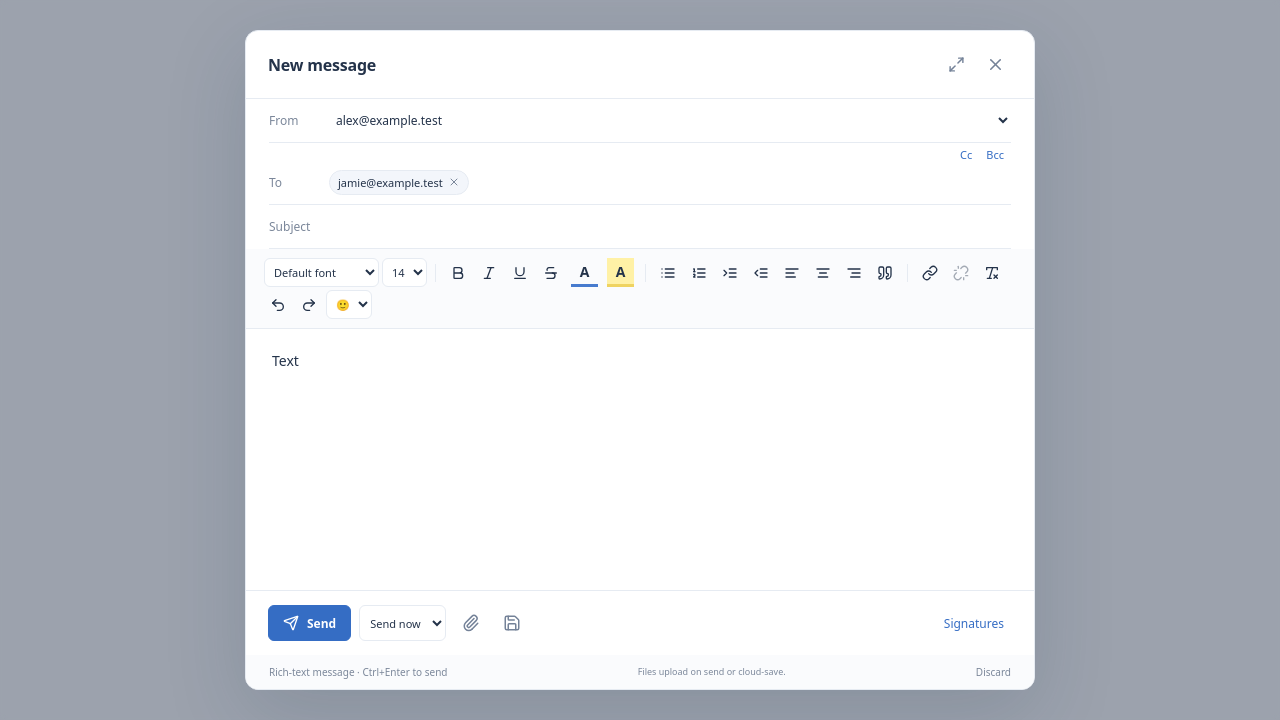
composer regression review › locks the signature insertion control during the five-second countdown
The width and height of the screenshot is (1280, 720).
Click the button "Signatures" at (974, 623), box [936,606,1012,640]
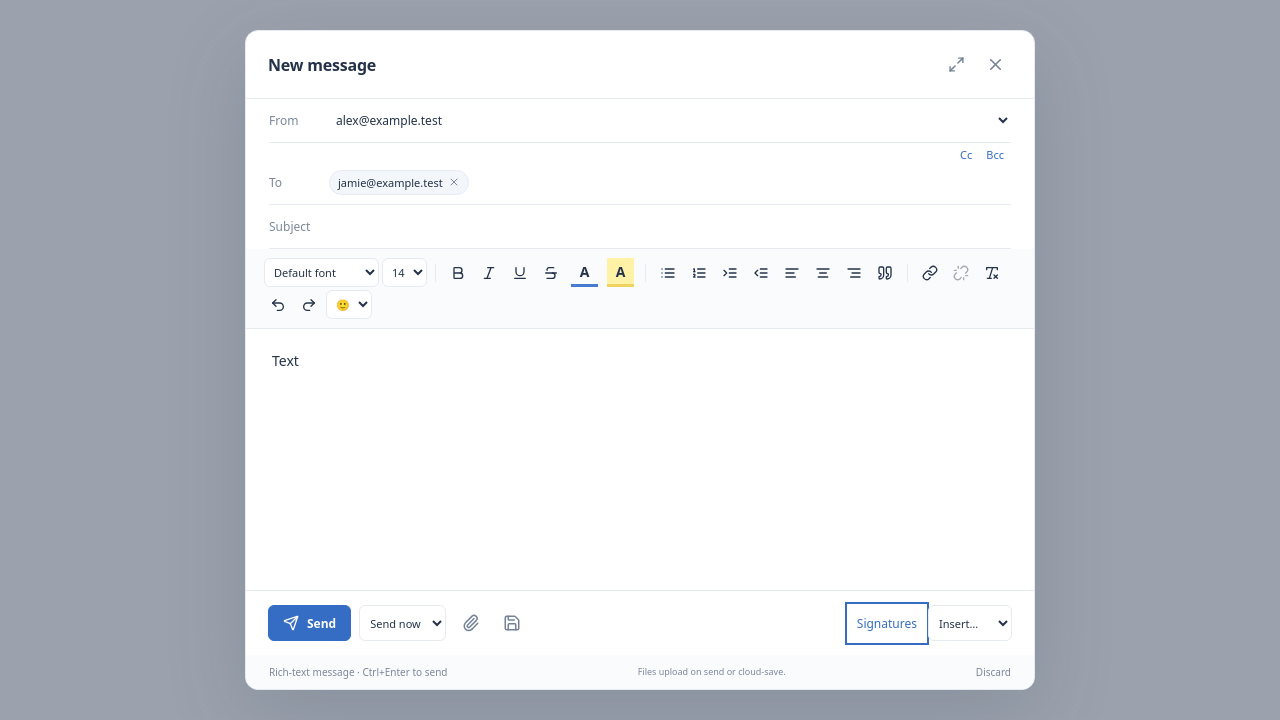
Click the button "Send" at (310, 623), box [268,605,351,641]
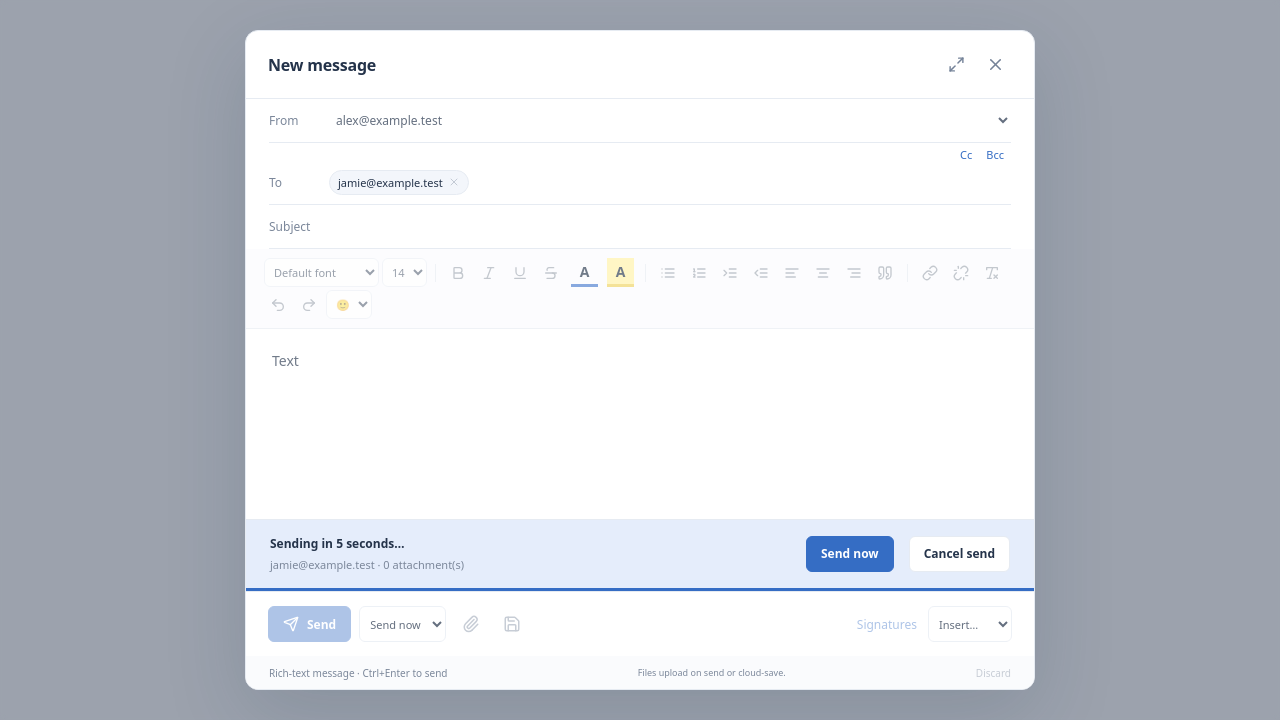
Expected: the button "Cancel send" is shown
Expected: the dropdown named "Insert signature" is disabled, [928,606,1012,642]
Click the button "Cancel send" at (959, 554), box [909,536,1010,572]
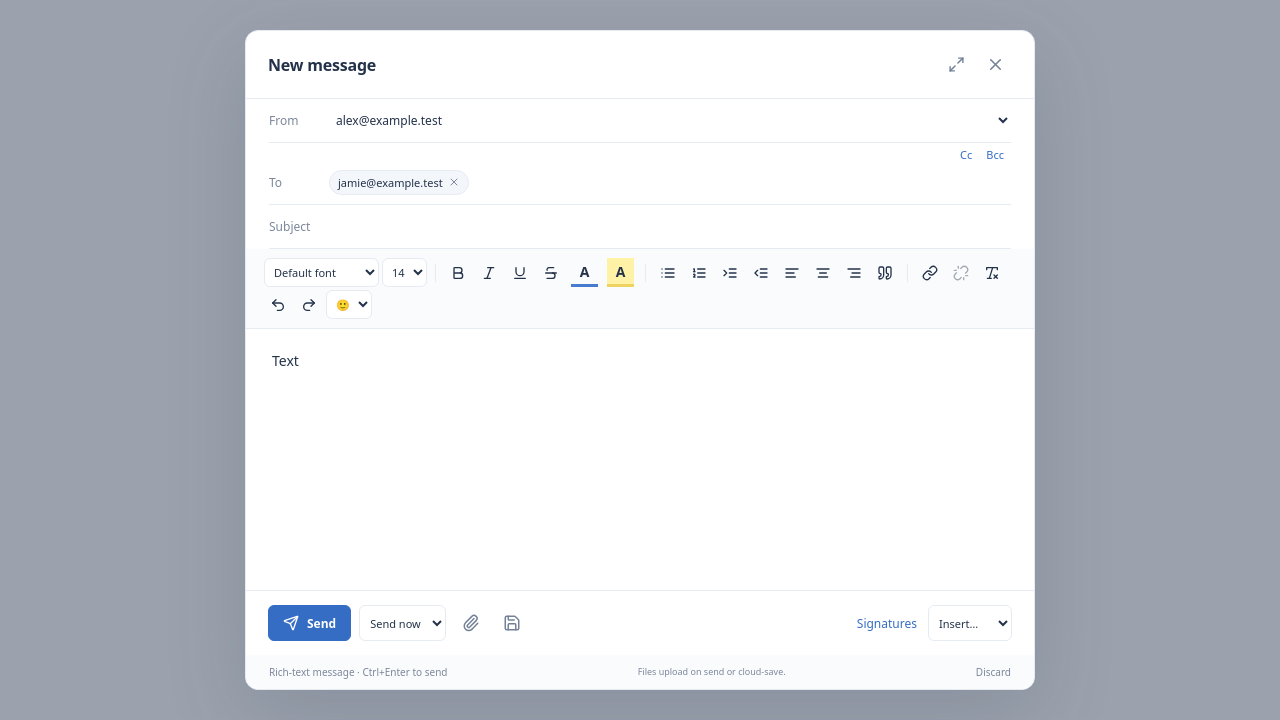
Expected: the dropdown named "Insert signature" is enabled, [928,605,1012,641]
